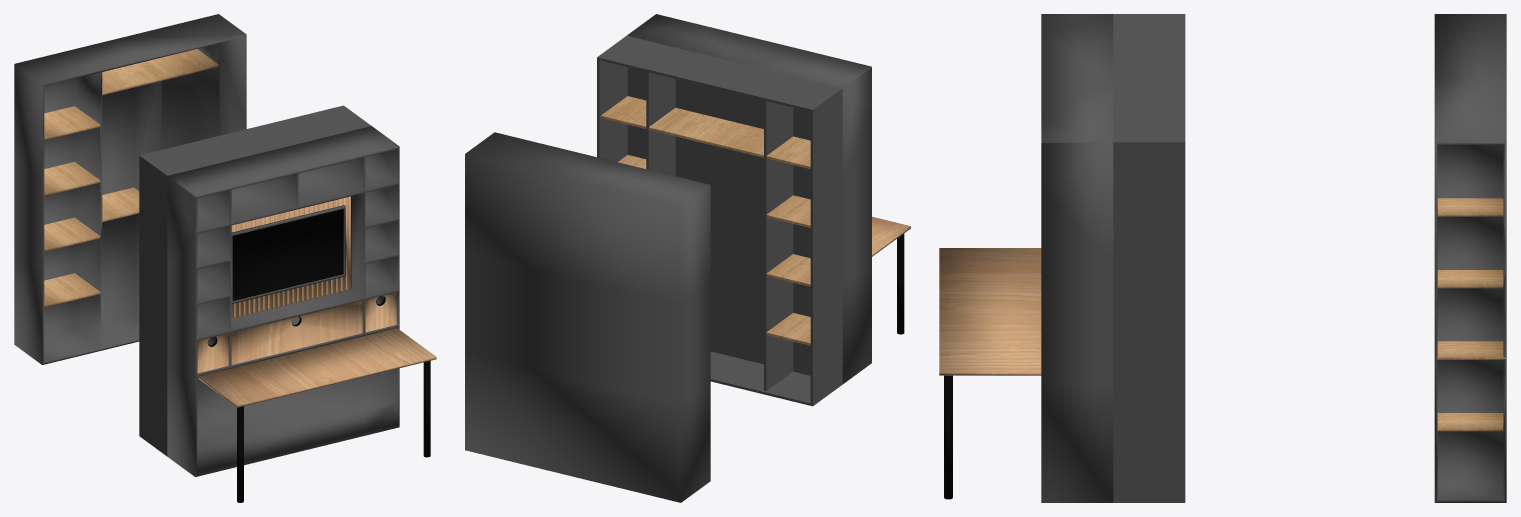
Rendered from bureaum_kastm_kast.gltf.
3 renders of one model, left to right at view 1: azimuth 30°, elevation 25°; view 2: azimuth 150°, elevation 25°; view 3: azimuth 270°, elevation 25°, orthographic. The views are drawn at different scales.
Parts seen in each view (by area): view 1: bureaum_kastm_kast; view 2: bureaum_kastm_kast; view 3: bureaum_kastm_kast.
Boxes of the visible parts, <box> form: bureaum_kastm_kast: <box>14,14,436,502</box>; bureaum_kastm_kast: <box>465,14,910,502</box>; bureaum_kastm_kast: <box>939,14,1506,502</box>.
Size of the model in its own units: 1685 by 2212 by 3150.
Materials: 7 (3 with a texture image).
